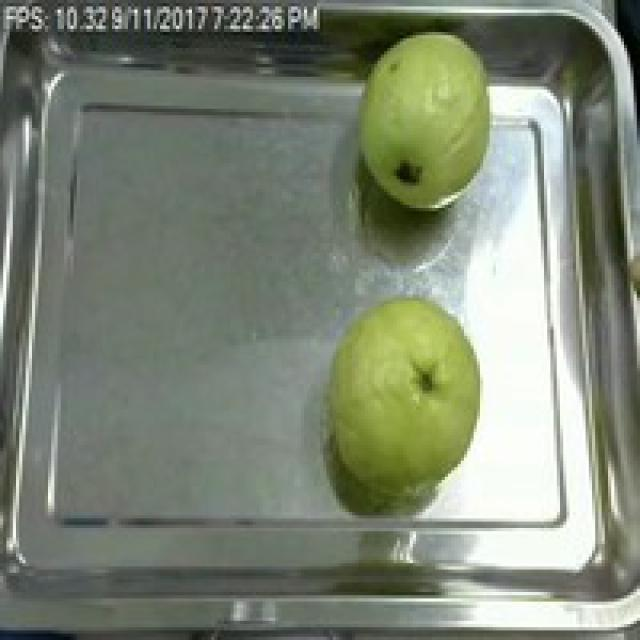Fruit: (314, 288, 496, 509), (339, 16, 509, 224)
